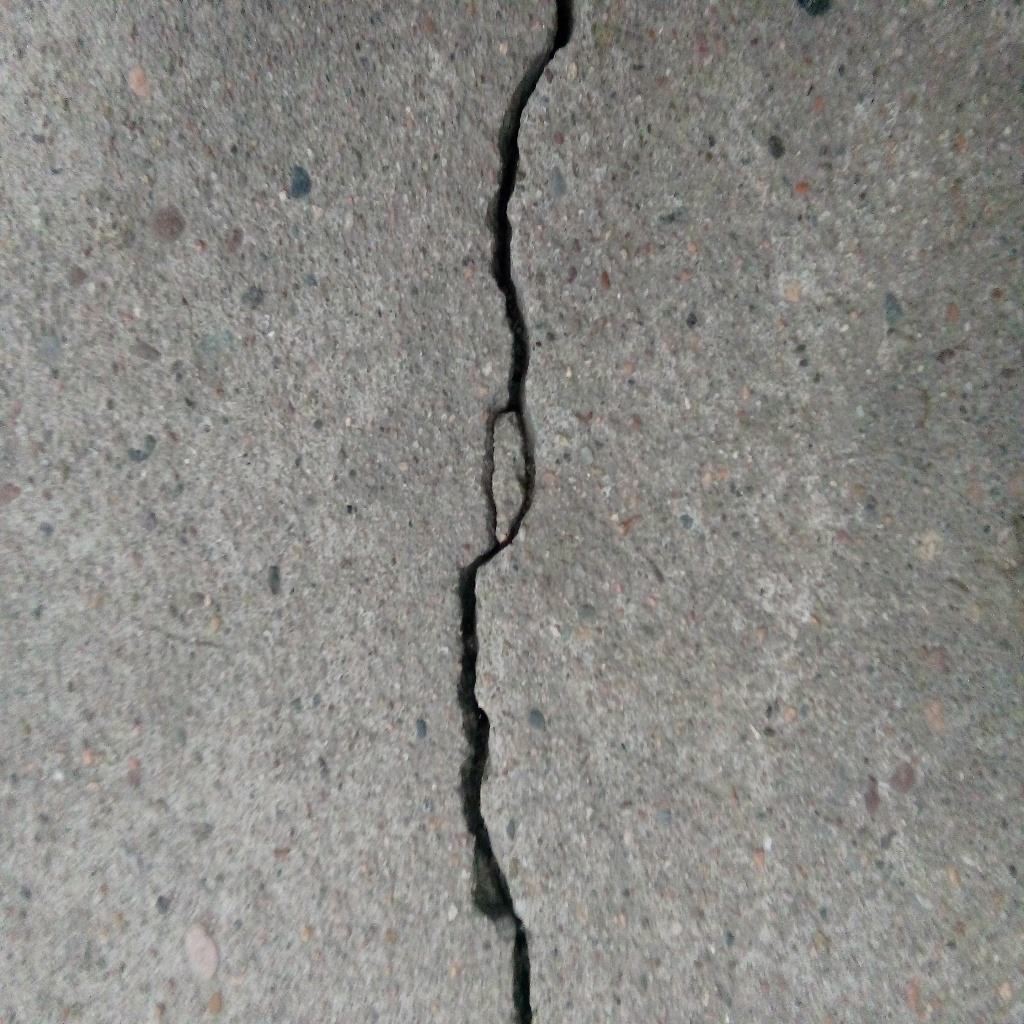Crack: (453, 1, 573, 1024)
